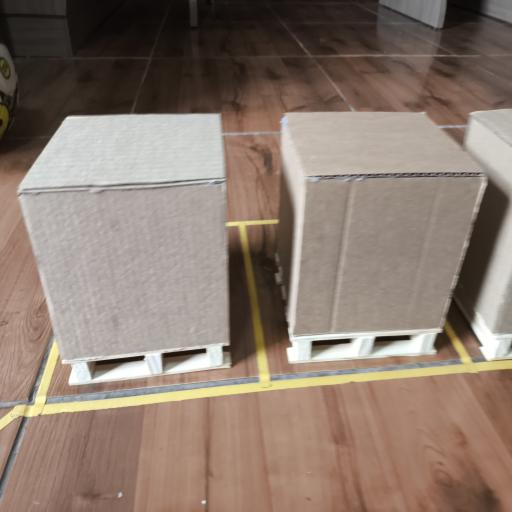pallet: (69, 347, 231, 385), (287, 329, 442, 363), (287, 330, 441, 363), (454, 297, 511, 360)
